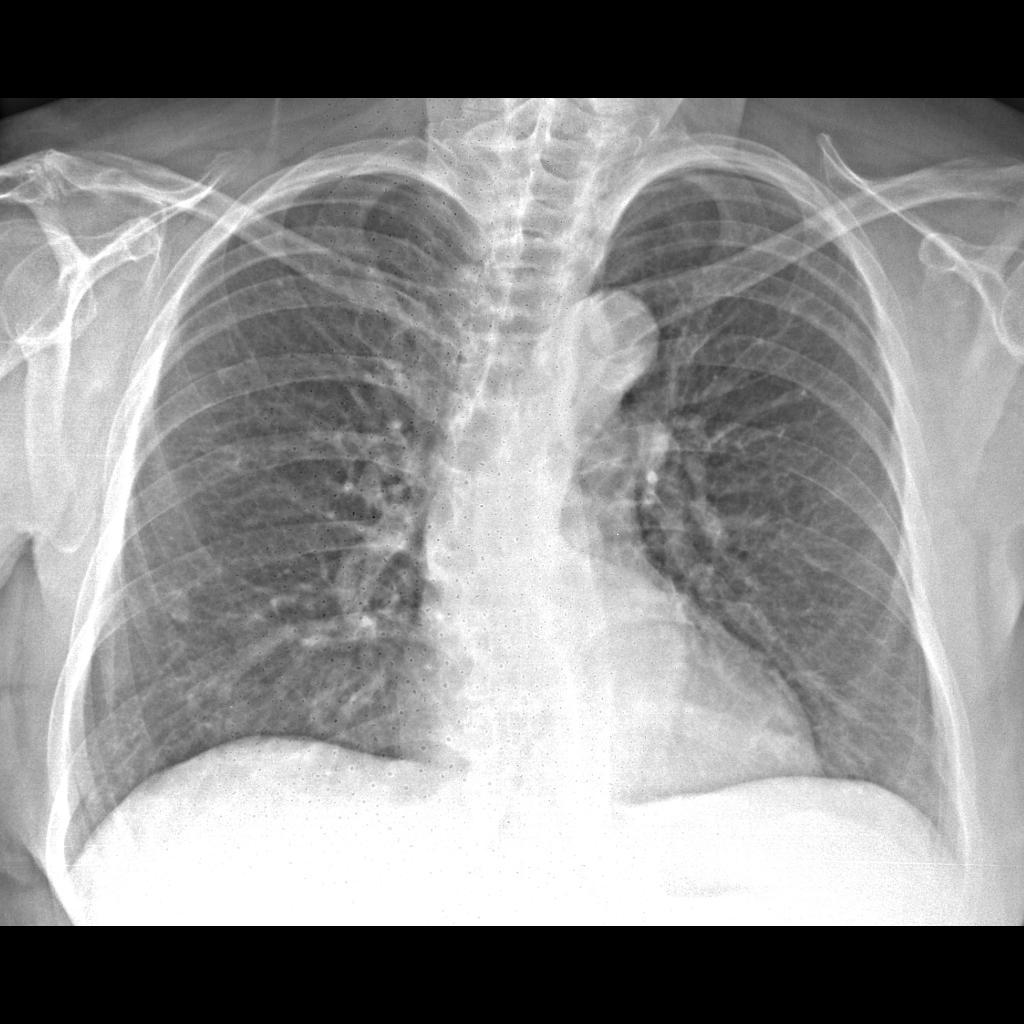Nodule: (156, 585, 199, 631)
